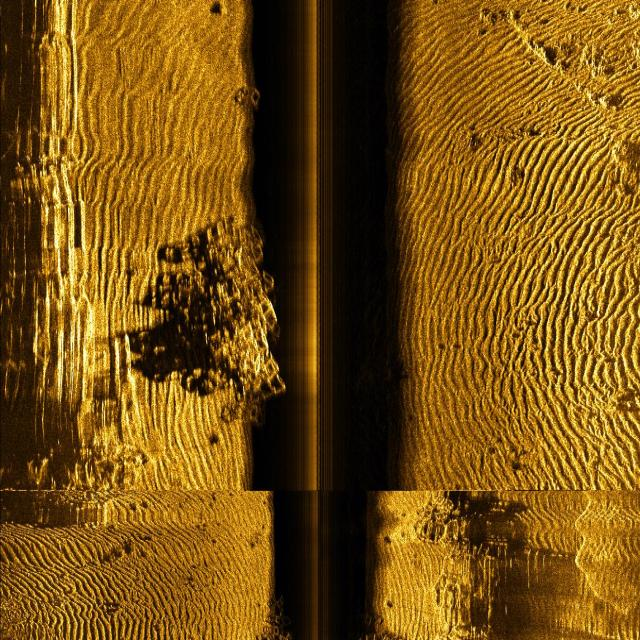artificial reef: (180, 211, 293, 430), (266, 581, 300, 640), (229, 75, 267, 119)
